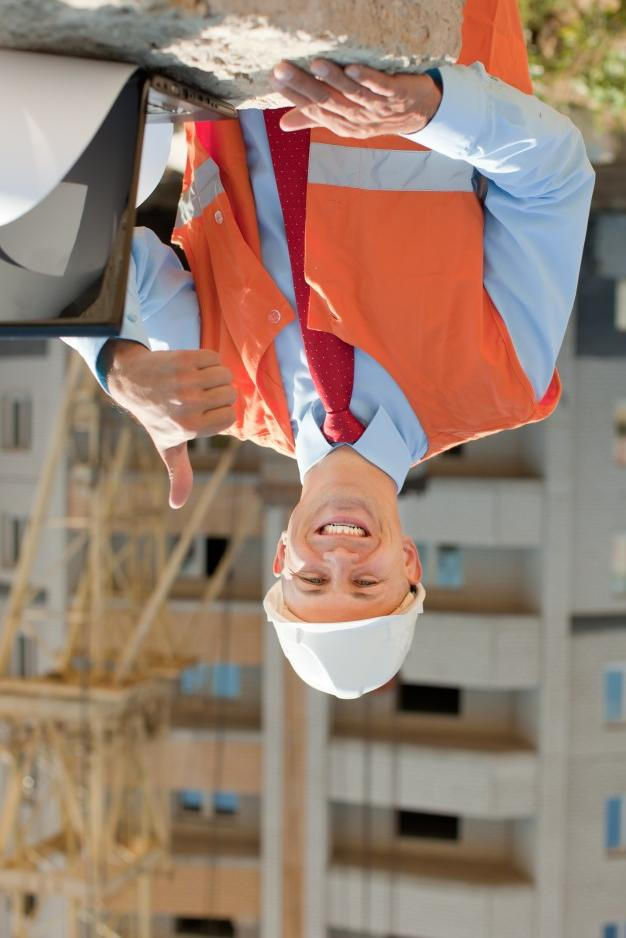thumbsdown: (157, 349, 237, 510)
